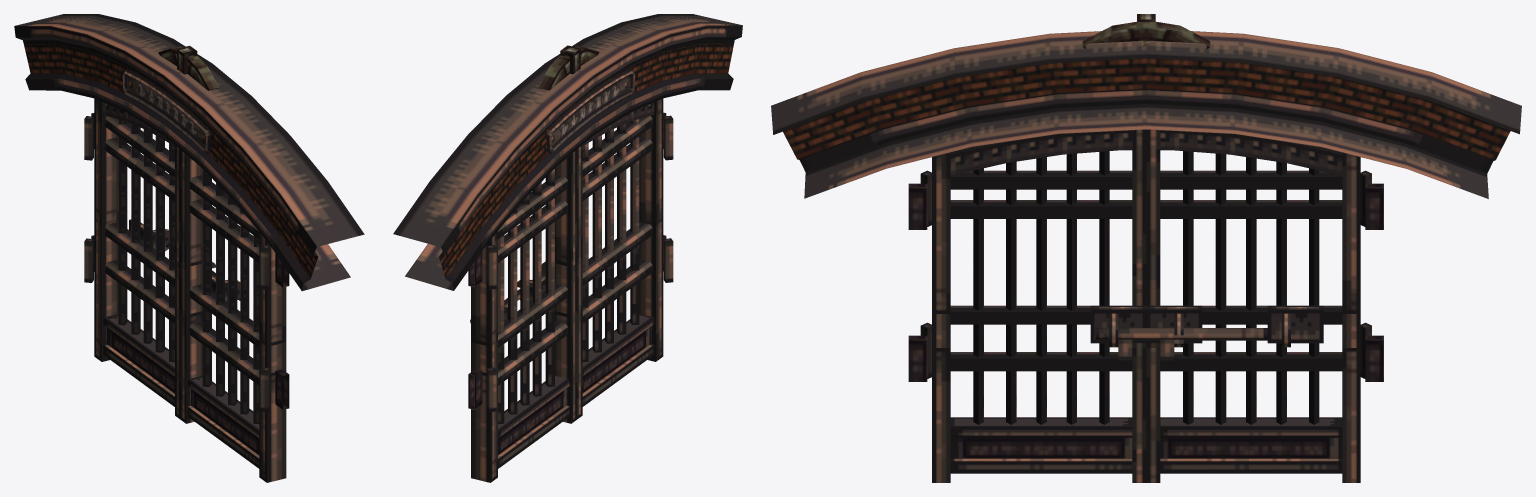
File: EnvBdgMD_Factory_B_Outdoor_Gate_D_Close.FBX
The picture shows the model from 3 angles, left to right: view 1: azimuth 30°, elevation 25°; view 2: azimuth 150°, elevation 25°; view 3: azimuth 270°, elevation 25°; orthographic projection. The views are drawn at different scales.
Parts seen in each view (by area): view 1: EnvBdgMD_Factory_B_Outdoor_Gate_D_Close; view 2: EnvBdgMD_Factory_B_Outdoor_Gate_D_Close; view 3: EnvBdgMD_Factory_B_Outdoor_Gate_D_Close.
Boxes of the visible parts, x1,y1,x2,y2 form: EnvBdgMD_Factory_B_Outdoor_Gate_D_Close: (14, 14, 364, 482); EnvBdgMD_Factory_B_Outdoor_Gate_D_Close: (393, 14, 742, 482); EnvBdgMD_Factory_B_Outdoor_Gate_D_Close: (771, 14, 1521, 482).
Size of the model in its own units: 102 by 541 by 806.
